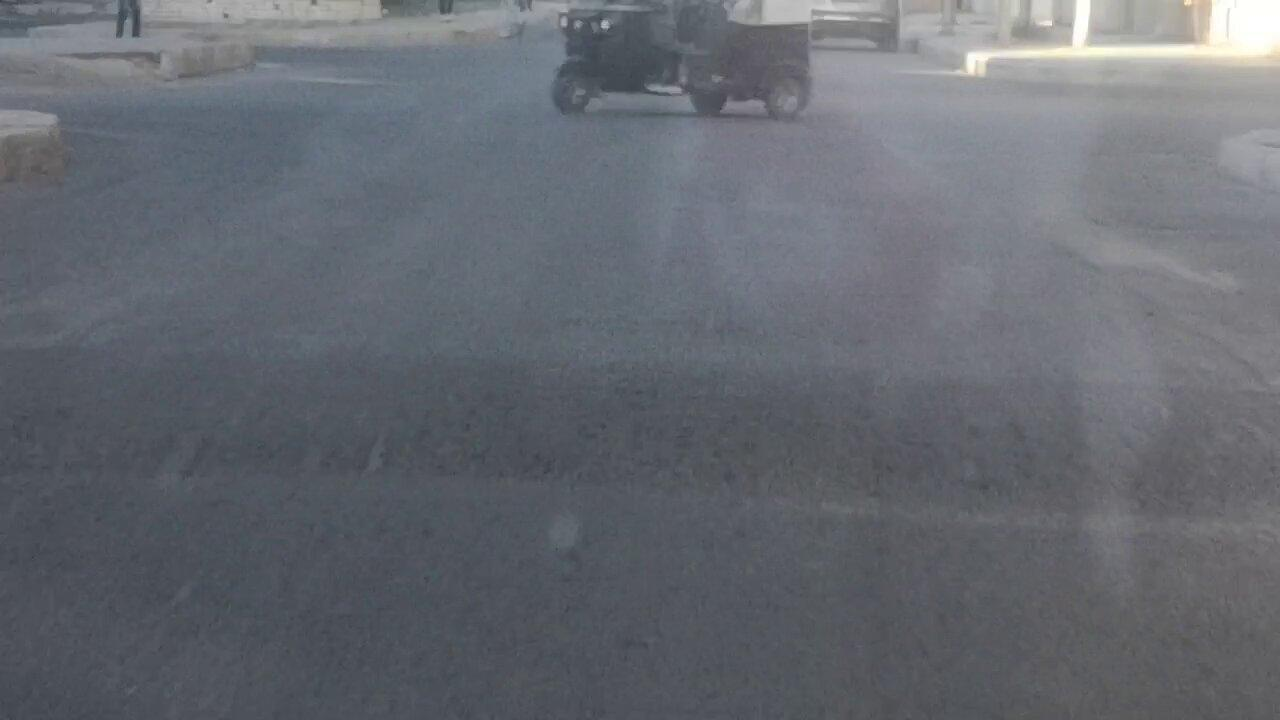Bump: (0, 327, 1280, 535)
